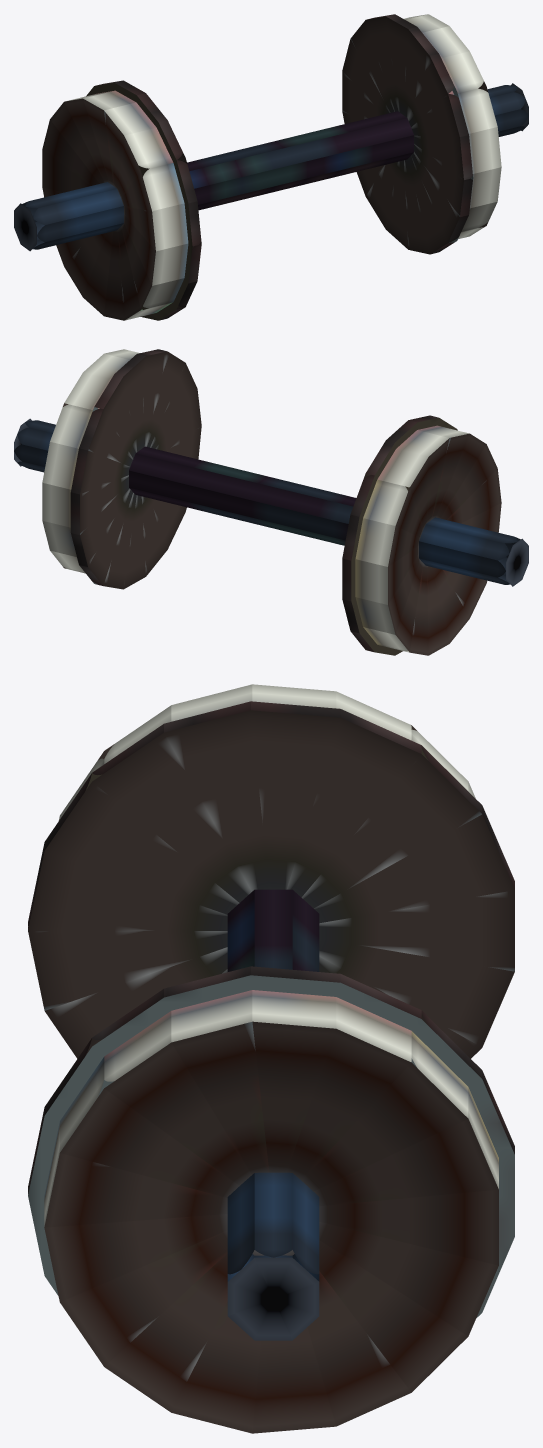
Rendered from mkz_wheel.obj.
3 views of the same model, one above another, from view 1: azimuth 30°, elevation 25°; view 2: azimuth 150°, elevation 25°; view 3: azimuth 270°, elevation 25° (orthographic). The views are drawn at different scales.
Parts seen in each view (by area): view 1: 轮子1; view 2: 轮子1; view 3: 轮子1.
Boxes of the visible parts, left/top/right/bottom form: 轮子1: left=14, top=14, right=528, bottom=320; 轮子1: left=14, top=349, right=528, bottom=655; 轮子1: left=28, top=684, right=514, bottom=1433.
Bounding box in the file's own units: 1.75 × 0.75 × 0.75.
